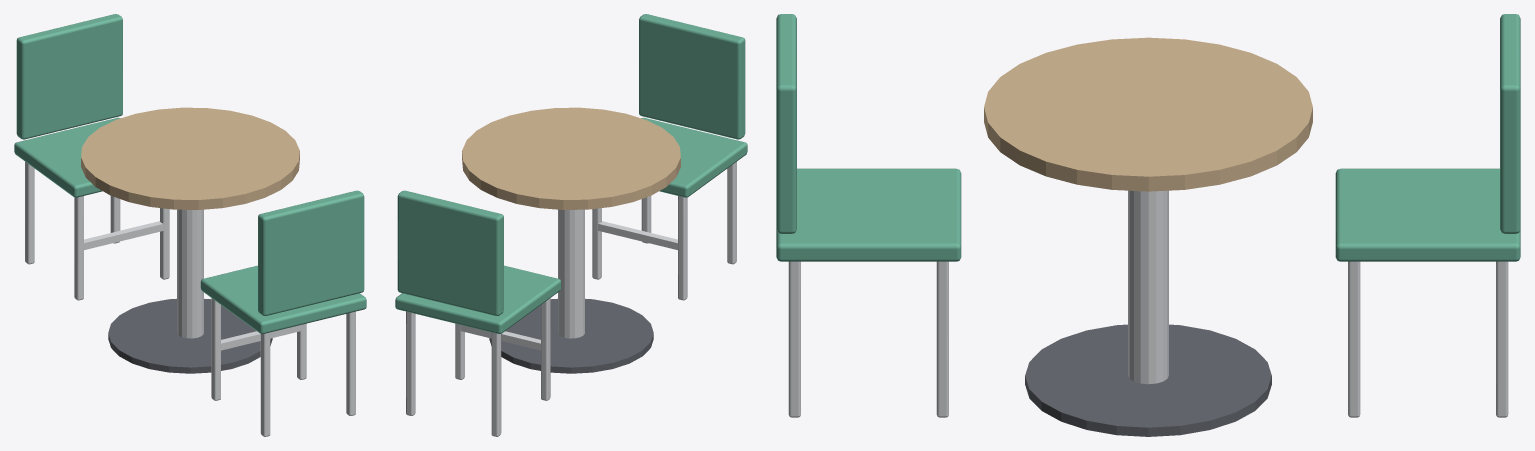
Rendered from art-gallery-and-exhibition-rooms-cafe-table-and-chairs-a767551a.glb.
The picture shows the model from 3 angles, left to right: view 1: azimuth 30°, elevation 25°; view 2: azimuth 150°, elevation 25°; view 3: azimuth 270°, elevation 25°; orthographic projection. The views are drawn at different scales.
Visible parts, largest first — view 1: cafe-table-and-chairs-green; view 2: cafe-table-and-chairs-green; view 3: cafe-table-and-chairs-green.
Part boxes in pixels (<box>): cafe-table-and-chairs-green: <box>14,14,366,436</box>; cafe-table-and-chairs-green: <box>395,14,747,436</box>; cafe-table-and-chairs-green: <box>776,14,1520,436</box>.
Bounding box in the file's own units: 0.8 × 0.9 × 1.81.
